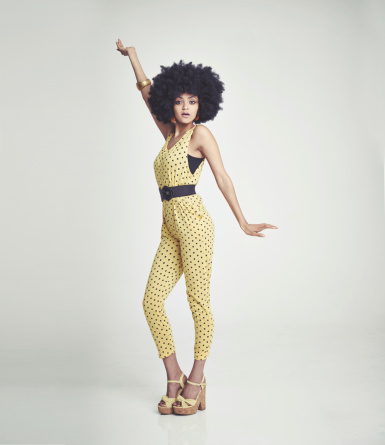em pe: (110, 44, 264, 419)
